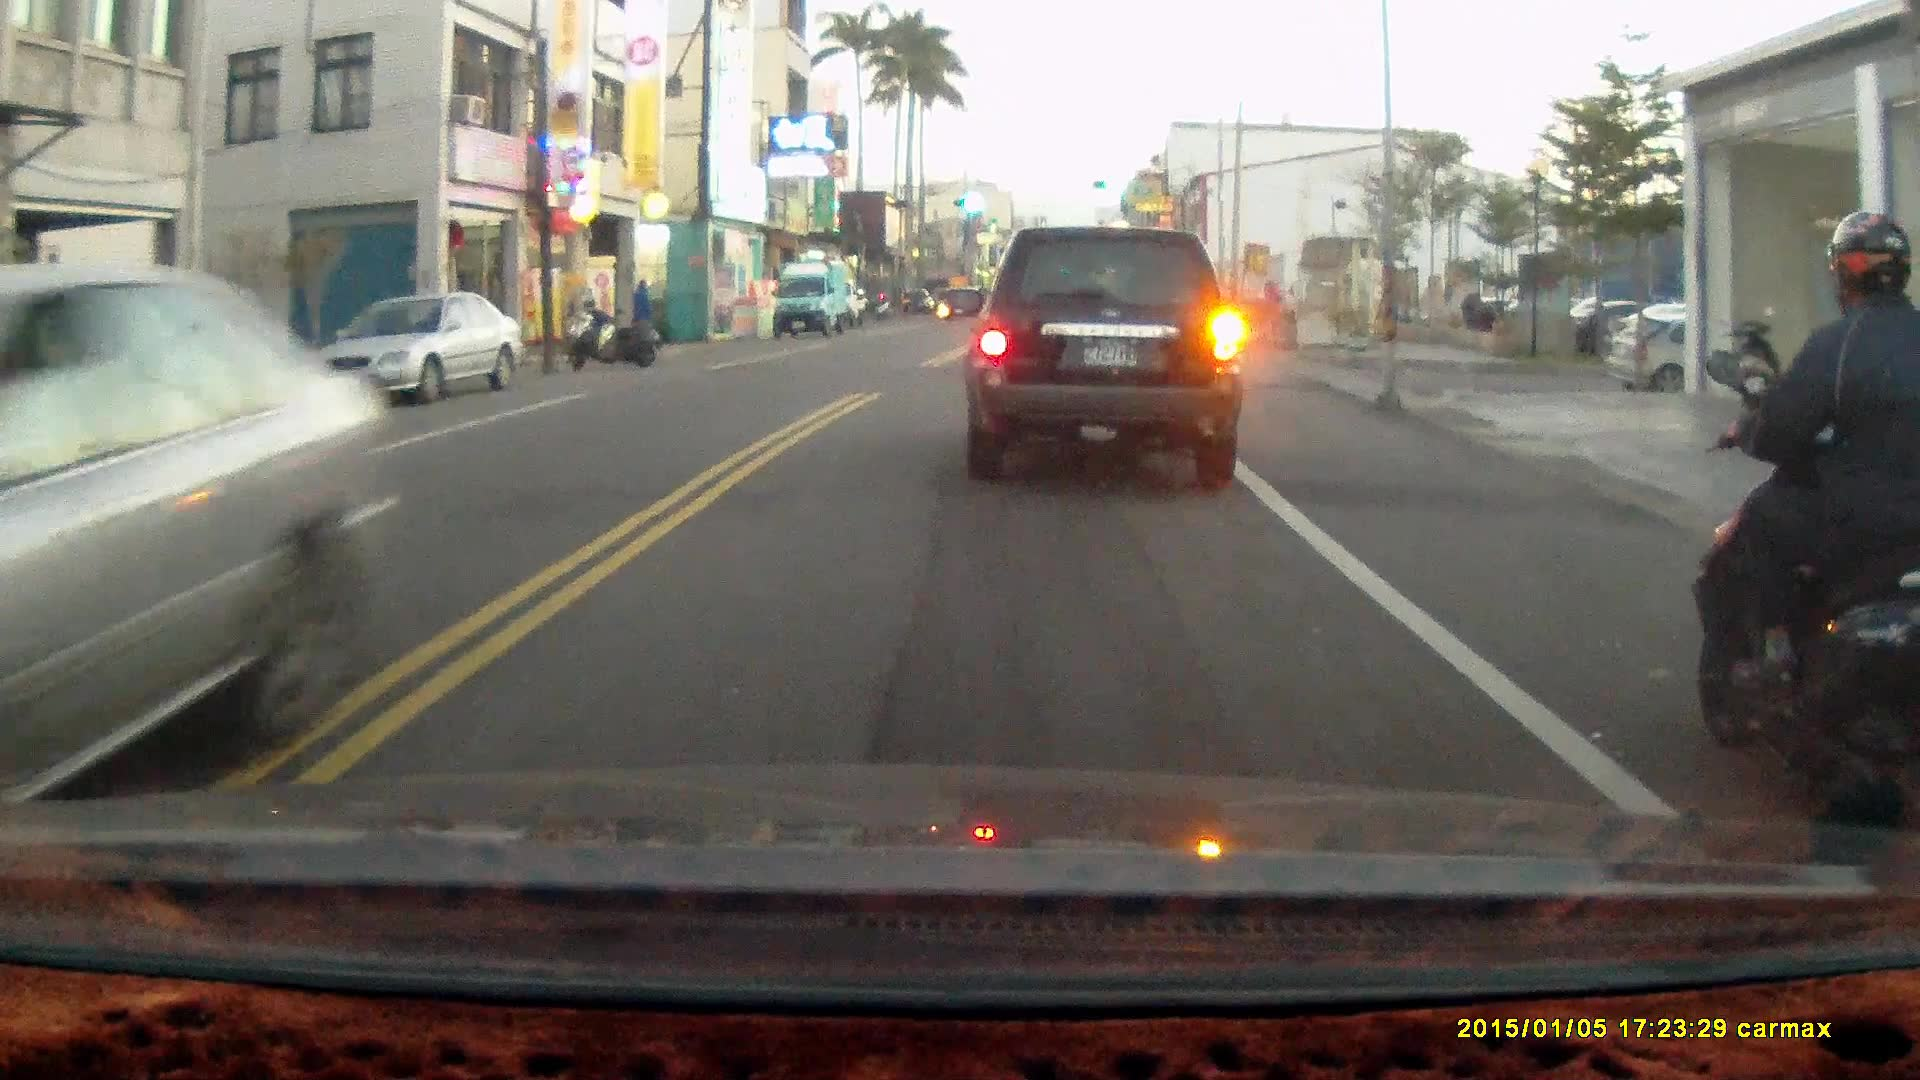pedestrian: (627, 273, 656, 353)
rider: (1682, 207, 1920, 845)
vehicle: (1, 265, 387, 816), (973, 223, 1249, 491), (292, 290, 524, 408), (1609, 317, 1829, 402), (771, 261, 858, 342)
